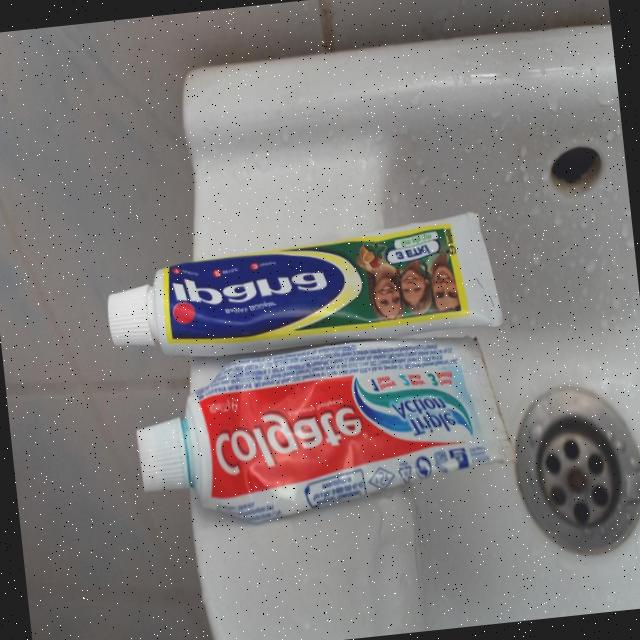Toothpaste: (128, 324, 520, 532), (100, 204, 502, 358)
